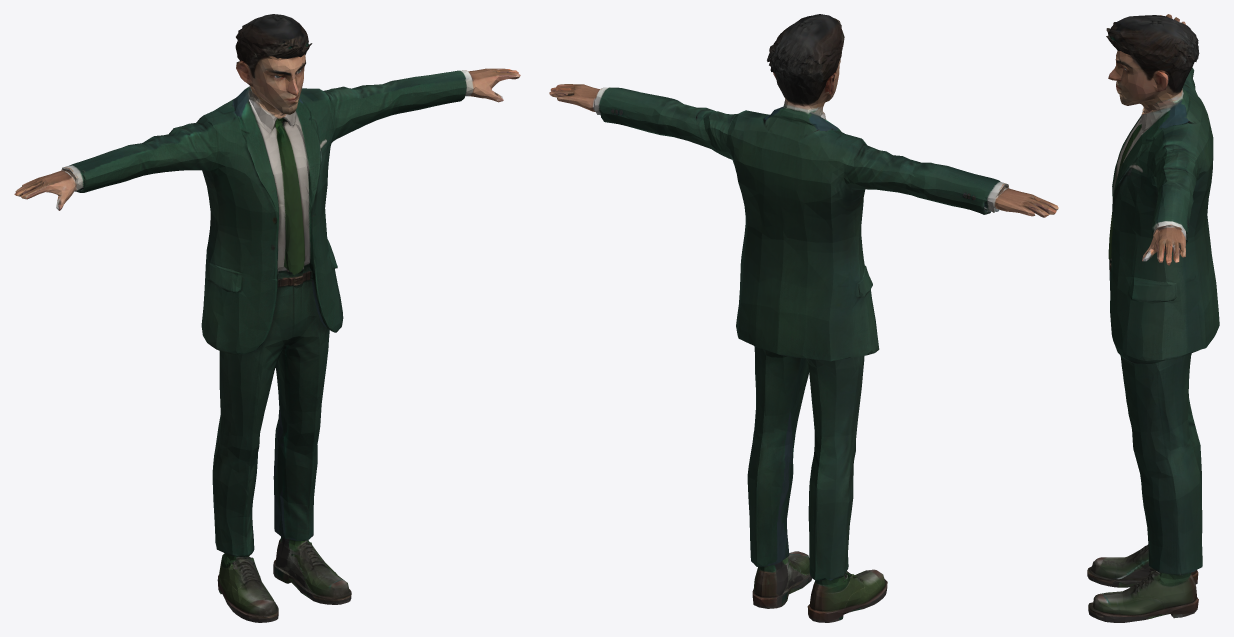
The model's file is Man_in_a_Suit_T_Pose_0428171337_texture.fbx.
3 views of the same model, side by side, from view 1: azimuth 30°, elevation 25°; view 2: azimuth 150°, elevation 25°; view 3: azimuth 270°, elevation 25° (orthographic).
Visible parts, largest first — view 1: temp; view 2: temp; view 3: temp.
Boxes of the visible parts, x1,y1,x2,y2 form: temp: (14,14,520,622); temp: (549,14,1058,622); temp: (1087,14,1219,622).
Bounding box in the file's own units: 182 × 198 × 41.1.
Materials: 1 (1 with a texture image).
